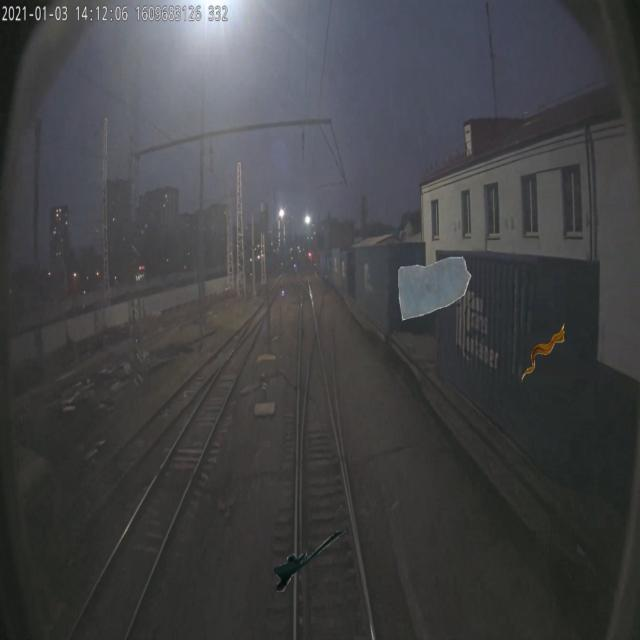floating object: (388, 242, 474, 326), (274, 529, 348, 593), (520, 320, 564, 384)
